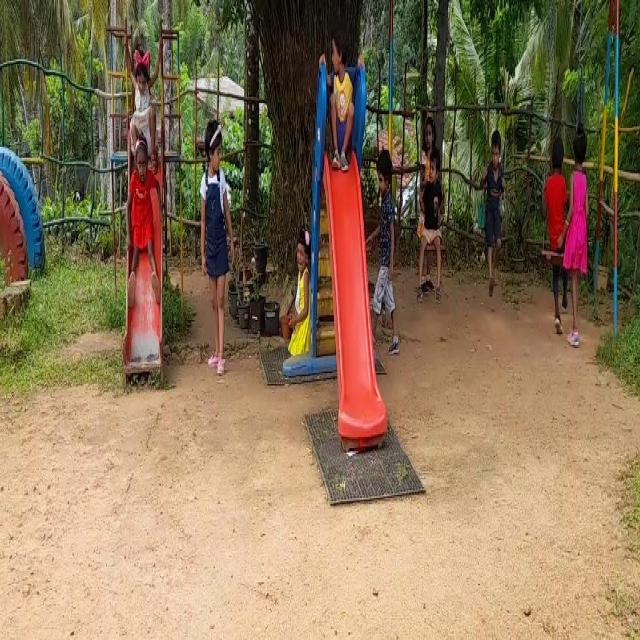child: (188, 121, 236, 393), (480, 74, 508, 296), (317, 32, 360, 176), (122, 139, 158, 297), (566, 116, 590, 351), (419, 121, 445, 305), (541, 105, 564, 309)
